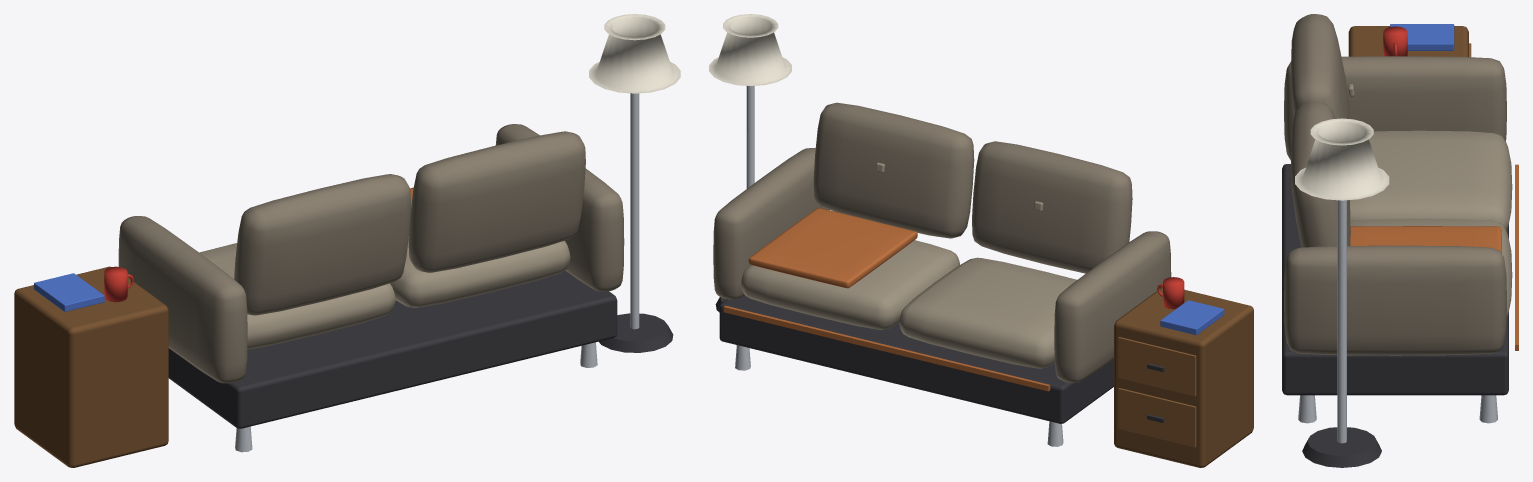
Rendered from station_C.glb.
3 views of the same model, side by side, from view 1: azimuth 30°, elevation 25°; view 2: azimuth 150°, elevation 25°; view 3: azimuth 270°, elevation 25° (orthographic). The views are drawn at different scales.
Parts seen in each view (by area): view 1: station_C_beige_d, station_C_graph, table, station_C_beige, lamp_shade, station_C_steel, book, station_C_red; view 2: station_C_beige_d, station_C_beige, station_C_graph, table, station_C_rust, station_C_wood, lamp_shade, station_C_steel, book, station_C_red; view 3: station_C_beige_d, station_C_beige, station_C_graph, lamp_shade, station_C_rust, station_C_steel, table, book, station_C_red.
Boxes of the visible parts, <box> form: station_C_beige_d: <box>118,124,624,383</box>; station_C_graph: <box>168,270,673,428</box>; table: <box>14,266,168,467</box>; station_C_beige: <box>199,236,570,349</box>; lamp_shade: <box>589,14,680,93</box>; station_C_steel: <box>235,93,639,452</box>; book: <box>34,273,104,311</box>; station_C_red: <box>104,266,133,302</box>; station_C_beige_d: <box>713,102,1171,382</box>; station_C_beige: <box>741,162,1076,368</box>; station_C_graph: <box>715,295,1164,423</box>; table: <box>1114,287,1253,467</box>; station_C_rust: <box>723,208,1050,391</box>; station_C_wood: <box>1118,337,1196,447</box>; lamp_shade: <box>709,14,791,86</box>; station_C_steel: <box>735,86,1063,446</box>; book: <box>1160,300,1224,335</box>; station_C_red: <box>1157,277,1184,309</box>; station_C_beige_d: <box>1284,14,1506,355</box>; station_C_beige: <box>1348,84,1512,318</box>; station_C_graph: <box>1282,164,1508,467</box>; lamp_shade: <box>1295,118,1389,200</box>; station_C_rust: <box>1350,164,1518,350</box>; station_C_steel: <box>1298,200,1497,443</box>; table: <box>1348,26,1468,56</box>; book: <box>1390,24,1454,50</box>; station_C_red: <box>1383,26,1407,56</box>.
Size of the model in its own units: 2.69 by 1.32 by 0.8875.
